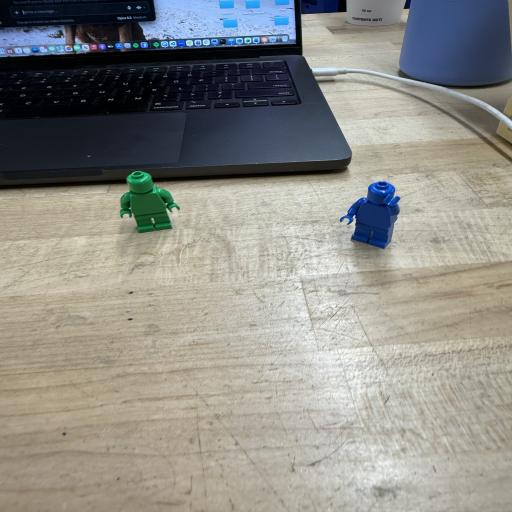blue-minifig: (348, 182, 399, 247)
green-minifig: (120, 171, 180, 233)
